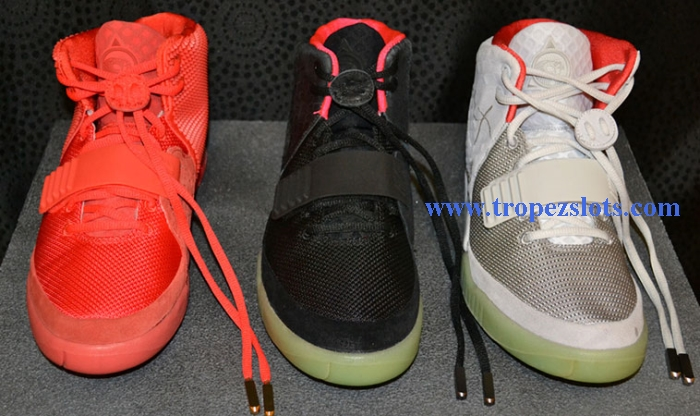Yeezy Red October: (22, 6, 226, 379)
